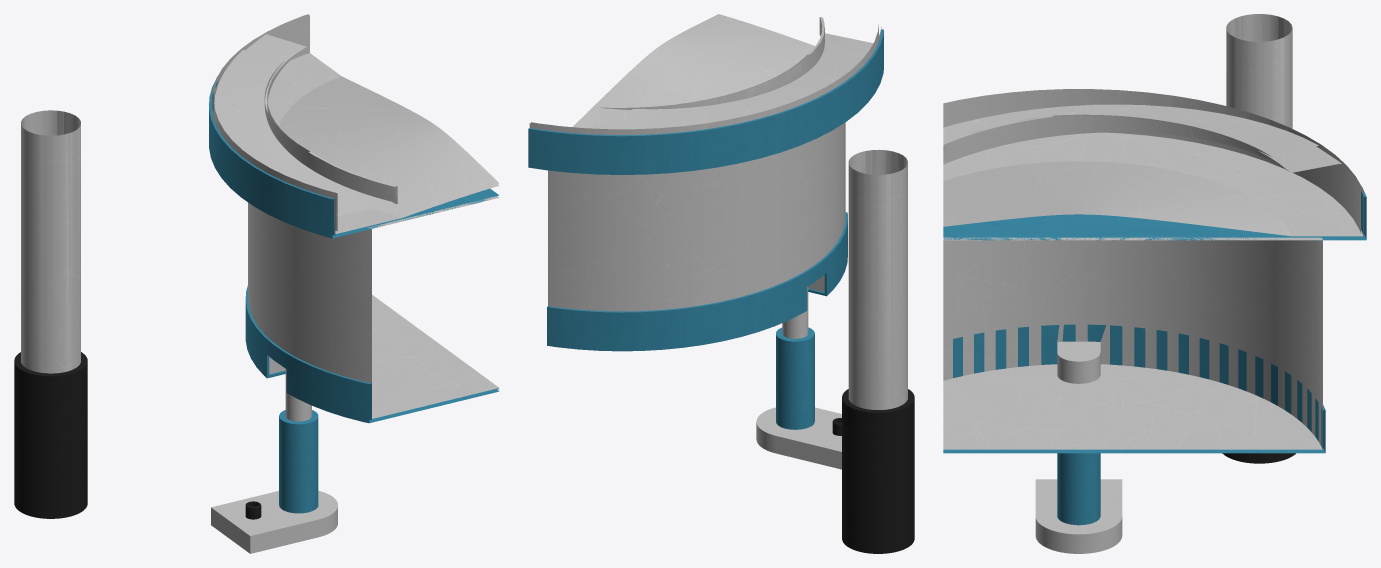
The model's file is TightenerStation_Cube03.glb.
The picture shows the model from 3 angles, left to right: view 1: azimuth 30°, elevation 25°; view 2: azimuth 150°, elevation 25°; view 3: azimuth 270°, elevation 25°; orthographic projection. The views are drawn at different scales.
Parts seen in each view (by area): view 1: color-2.003; view 2: color-2.003; view 3: color-2.003.
Part boxes in pixels (x1,y1,x2,y2): color-2.003: (14, 14, 499, 553); color-2.003: (528, 14, 914, 553); color-2.003: (943, 14, 1366, 553).
Bounding box in the file's own units: 0.2965 × 0.32 × 0.2934.
3 materials, 3 textured.
